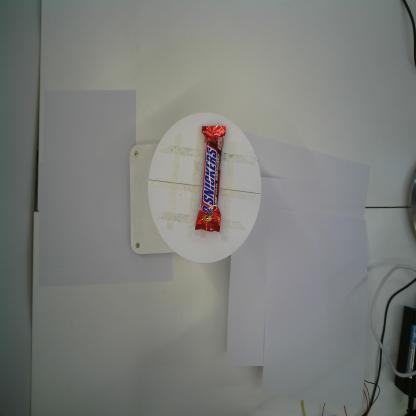Chocolate: (193, 124, 226, 234)
